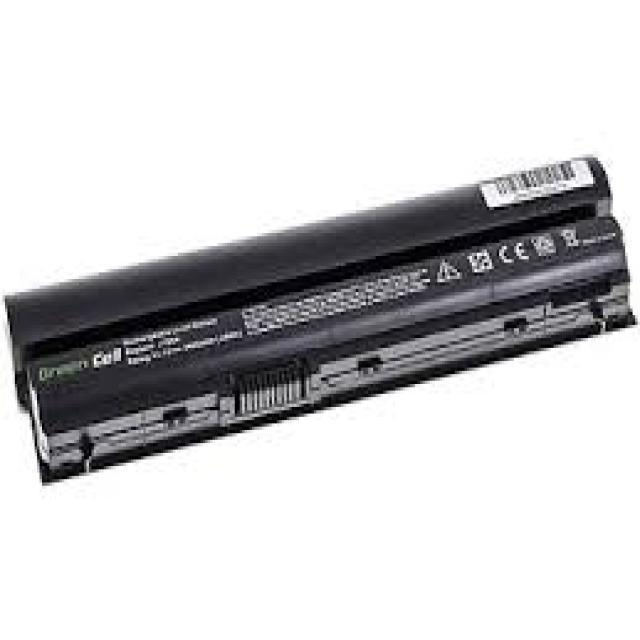Battery: (7, 138, 627, 519)
